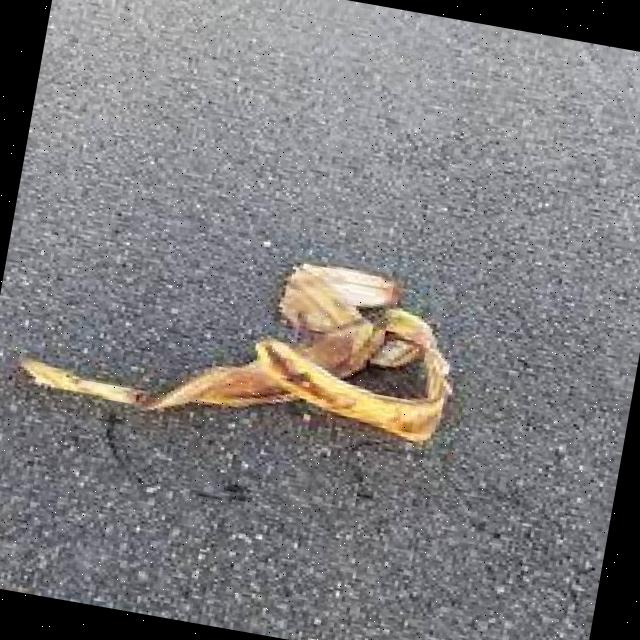banana-peel: (8, 209, 469, 466)
